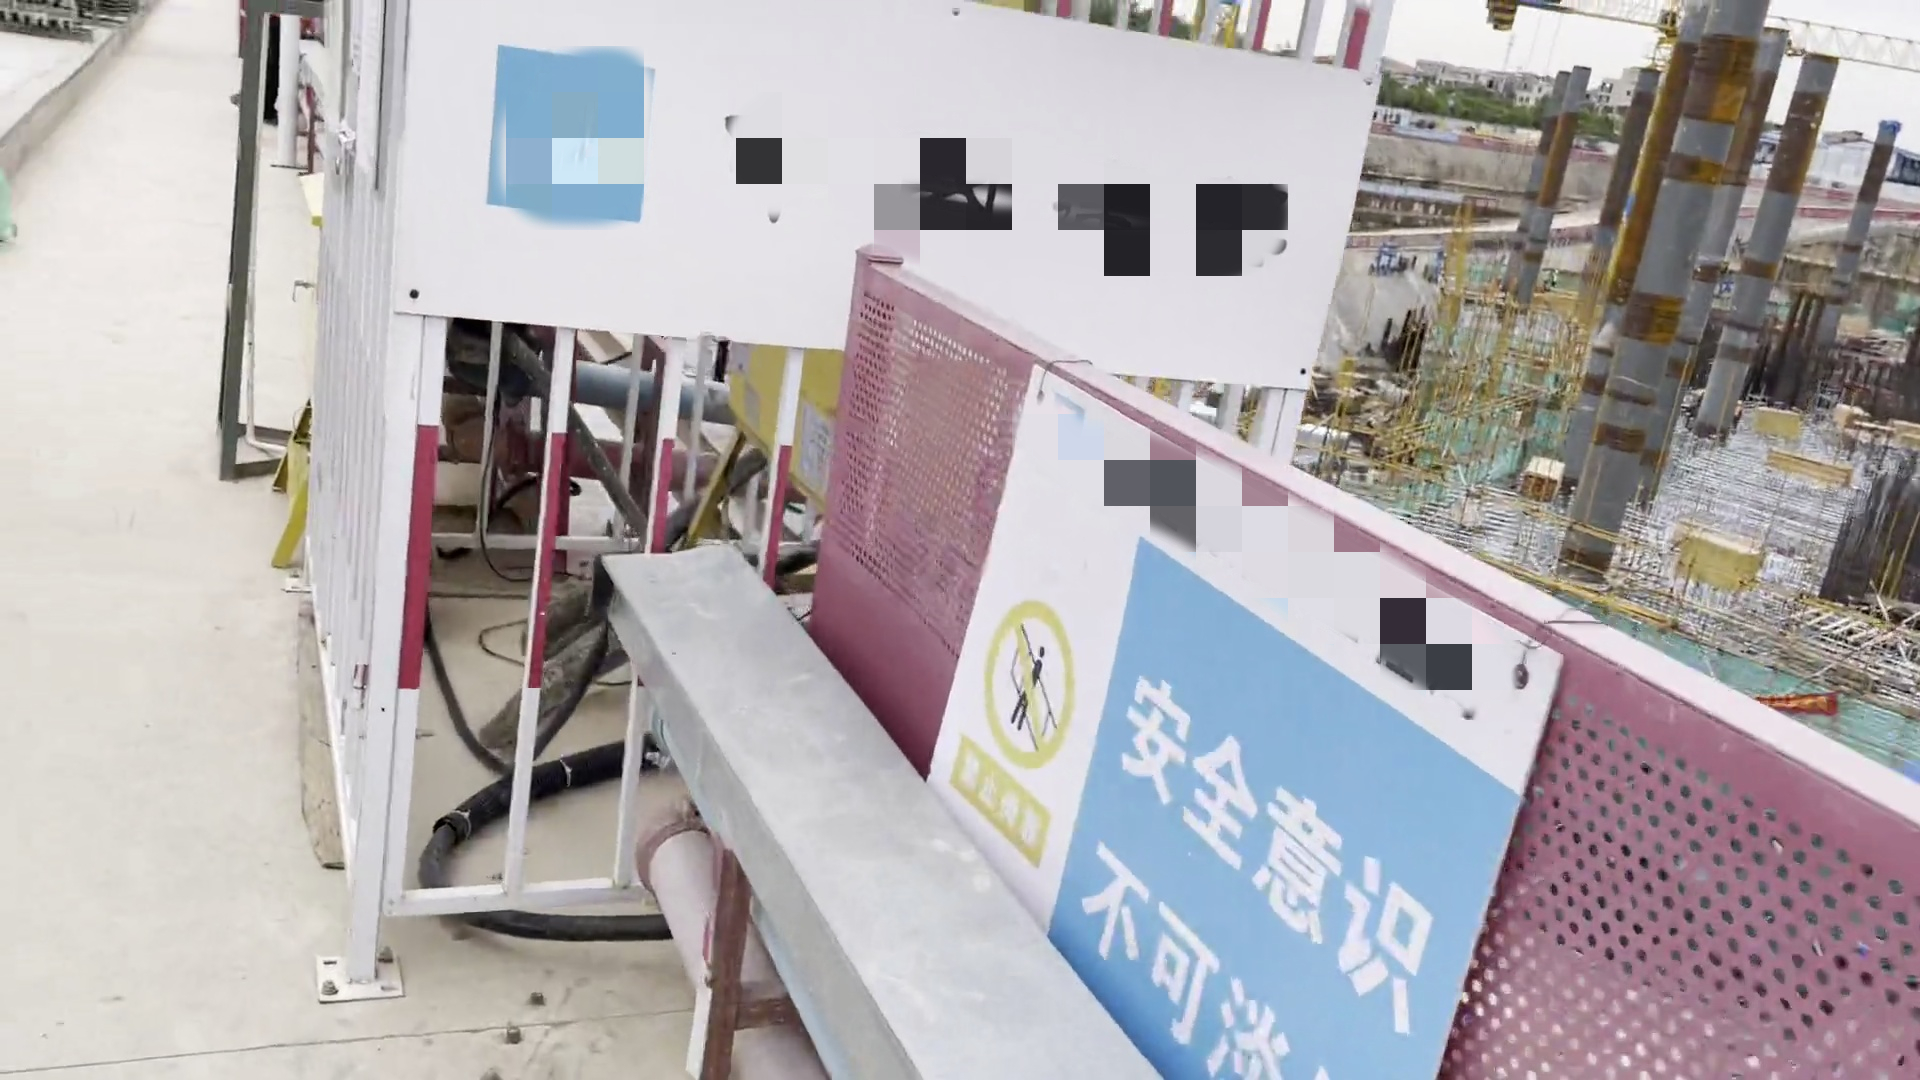fence: (1229, 464, 1920, 1080), (799, 232, 1250, 1080)
slogan: (903, 334, 1592, 1080), (1746, 680, 1847, 723)
wood: (1673, 517, 1766, 589), (1766, 444, 1865, 491), (1520, 452, 1568, 506)
